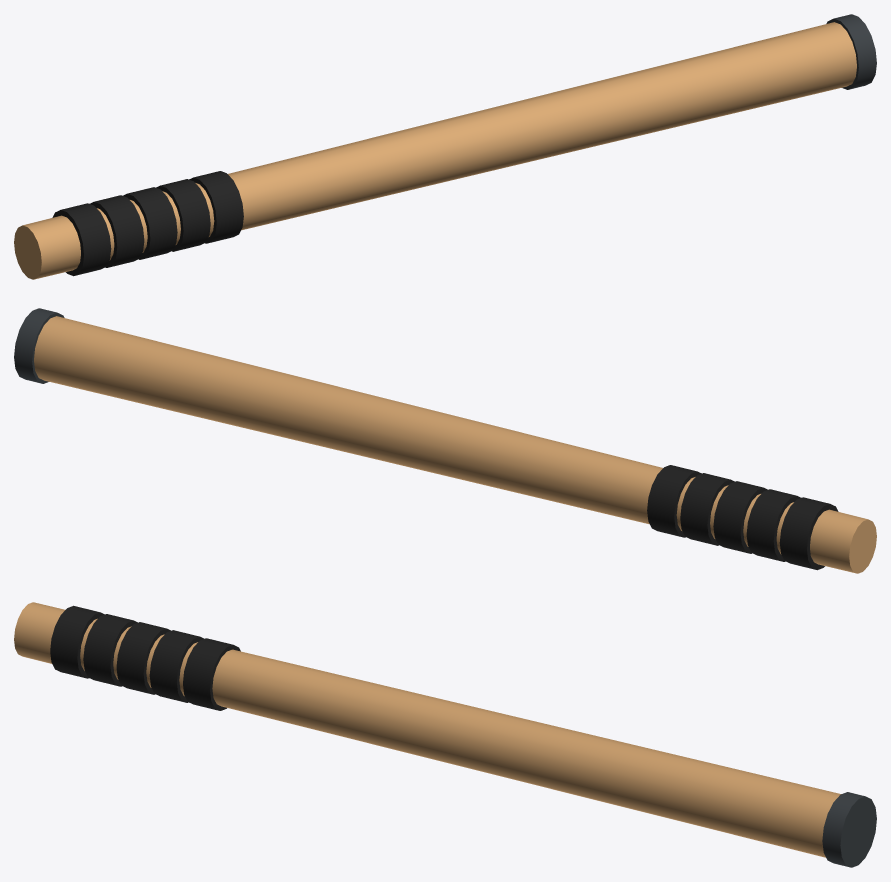
Rendered from part-handle.glb.
3 renders of one model, top to bottom at view 1: azimuth 30°, elevation 25°; view 2: azimuth 150°, elevation 25°; view 3: azimuth 330°, elevation 25°, orthographic.
Visible parts, largest first — view 1: woodLight, rubber, steelDark; view 2: woodLight, rubber, steelDark; view 3: woodLight, rubber, steelDark.
Part boxes in pixels (x1,y1,x2,y2): woodLight: (14,22,856,279); rubber: (52,171,243,276); steelDark: (826,14,876,89); woodLight: (34,316,876,573); rubber: (647,465,838,570); steelDark: (14,308,64,383); woodLight: (14,602,841,857); rubber: (50,605,240,710); steelDark: (822,792,876,867).
Size of the model in its own units: 0.551 by 0.042 by 0.042.
